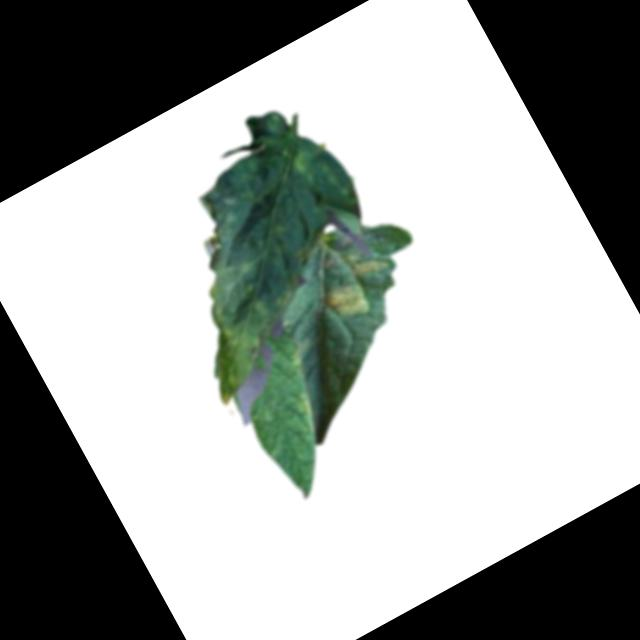Leaf_Mold: (100, 86, 419, 411), (340, 237, 394, 288), (322, 274, 374, 326), (287, 388, 328, 437)
